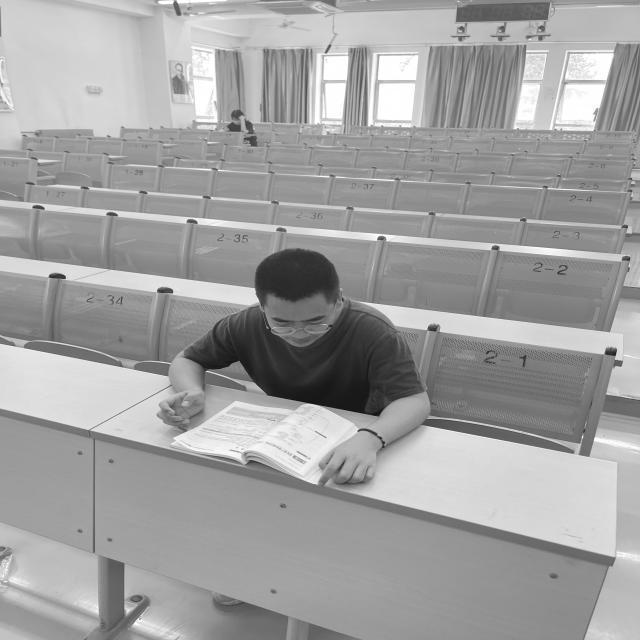study: (169, 250, 432, 483)
